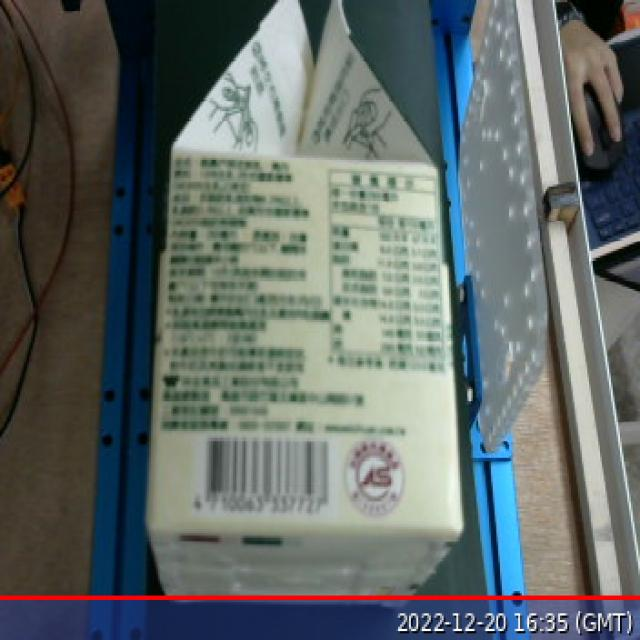non_white_jug: (115, 0, 480, 575)
